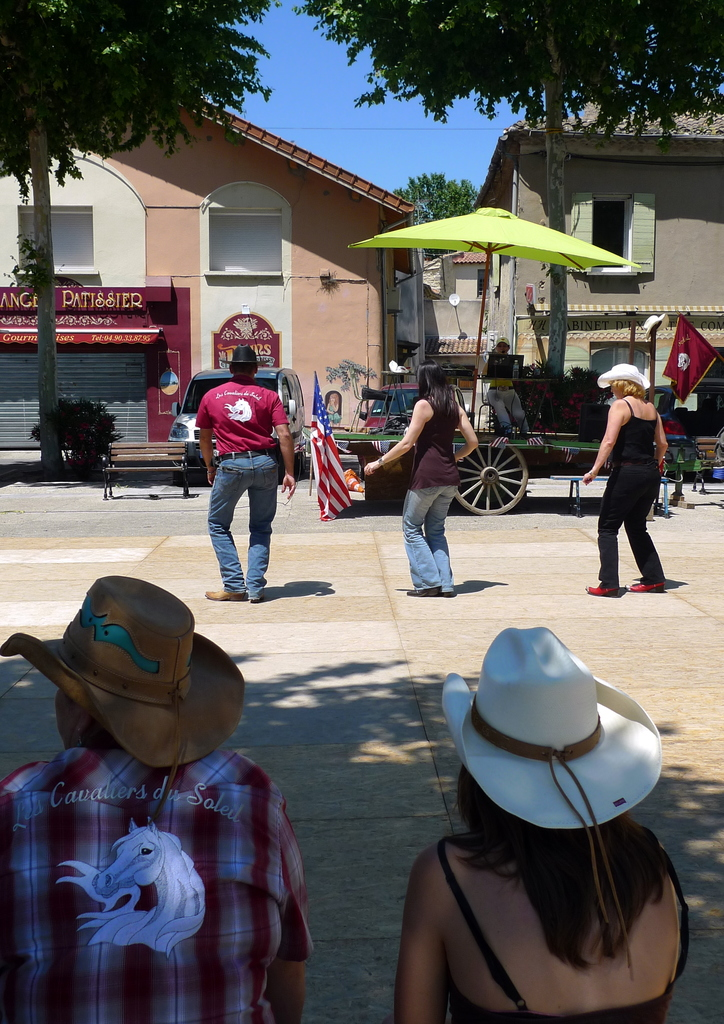Footwear: (202, 584, 242, 603), (623, 575, 661, 589), (587, 577, 616, 594), (406, 582, 438, 596), (429, 584, 447, 598)
